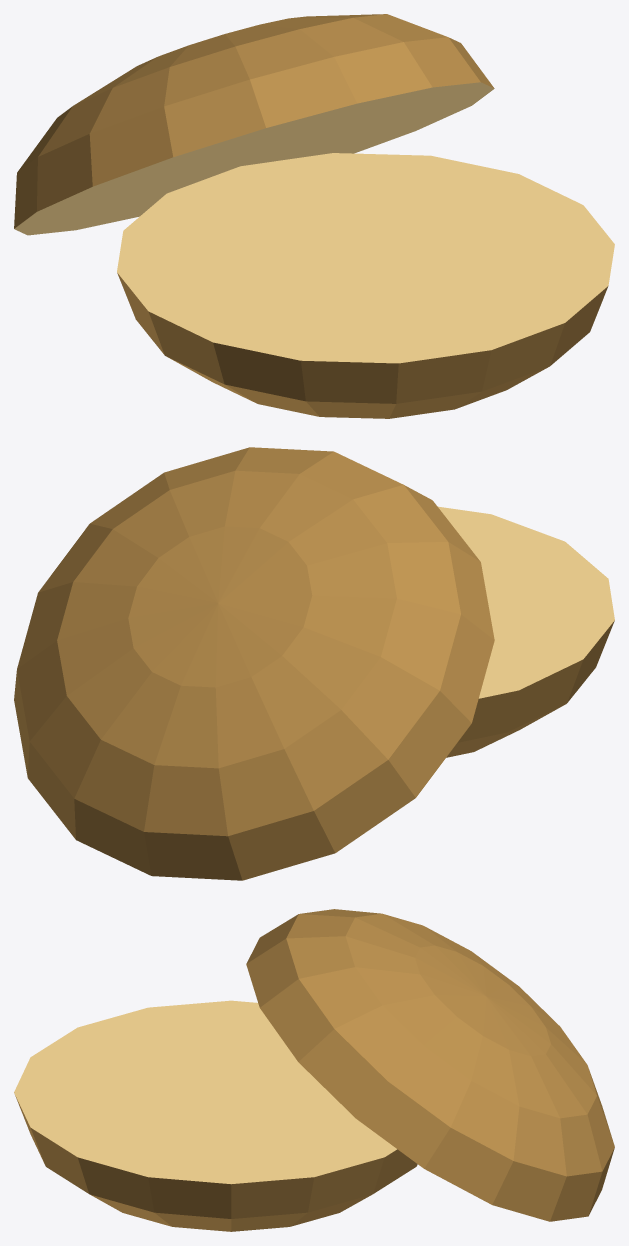
The model's file is Bread.fbx.
The picture shows the model from 3 angles, top to bottom: view 1: azimuth 30°, elevation 25°; view 2: azimuth 150°, elevation 25°; view 3: azimuth 270°, elevation 25°; orthographic projection. The views are drawn at different scales.
Visible parts, largest first — view 1: Bread_Bottom, Bread_Top; view 2: Bread_Top, Bread_Bottom; view 3: Bread_Top, Bread_Bottom.
Part boxes in pixels (x1=…): Bread_Bottom: x1=117, y1=153, x2=614, y2=418; Bread_Top: x1=14, y1=14, x2=494, y2=235; Bread_Top: x1=14, y1=447, x2=494, y2=880; Bread_Bottom: x1=438, y1=506, x2=614, y2=757; Bread_Top: x1=246, y1=909, x2=614, y2=1221; Bread_Bottom: x1=14, y1=1000, x2=417, y2=1231.
Bounding box in the file's own units: 0.6 × 0.3881 × 0.8301.
